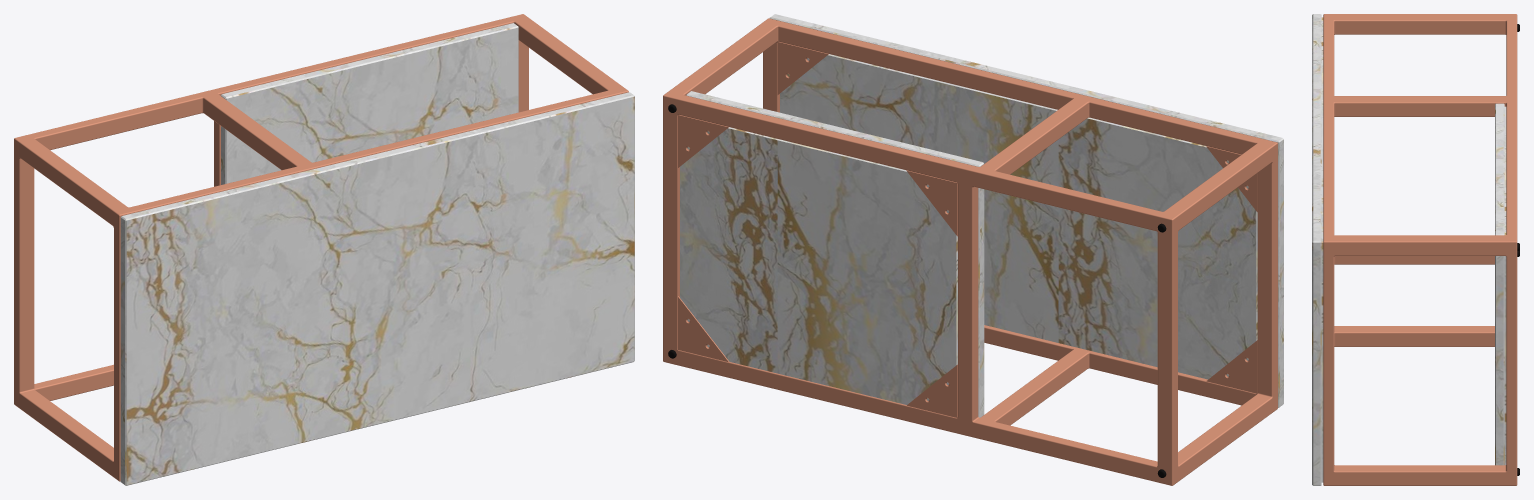
File: rectangular_side_coffee_table.glb
The picture shows the model from 3 angles, left to right: view 1: azimuth 30°, elevation 25°; view 2: azimuth 150°, elevation 25°; view 3: azimuth 270°, elevation 25°; orthographic projection. The views are drawn at different scales.
Parts seen in each view (by area): view 1: Object_4, Object_2; view 2: Object_3, Object_2, Object_4; view 3: Object_2, Object_4, Object_3.
Part boxes in pixels (x1=…): Object_4: x1=120, y1=23, x2=634, y2=485; Object_2: x1=14, y1=14, x2=628, y2=481; Object_3: x1=680, y1=54, x2=1257, y2=404; Object_2: x1=663, y1=18, x2=1277, y2=485; Object_4: x1=686, y1=14, x2=1283, y2=417; Object_2: x1=1323, y1=14, x2=1517, y2=485; Object_4: x1=1312, y1=14, x2=1504, y2=485; Object_3: x1=1321, y1=17, x2=1506, y2=482.
Size of the model in its own units: 1000 by 500 by 385.
4 materials, 2 textured.
